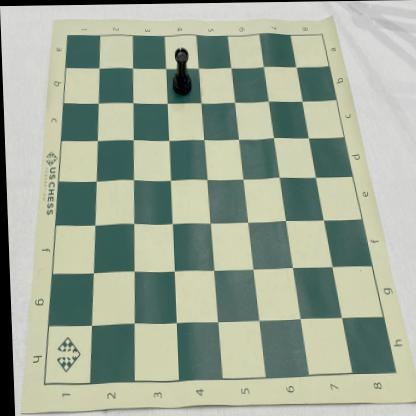black-rook: (171, 46, 191, 95)
